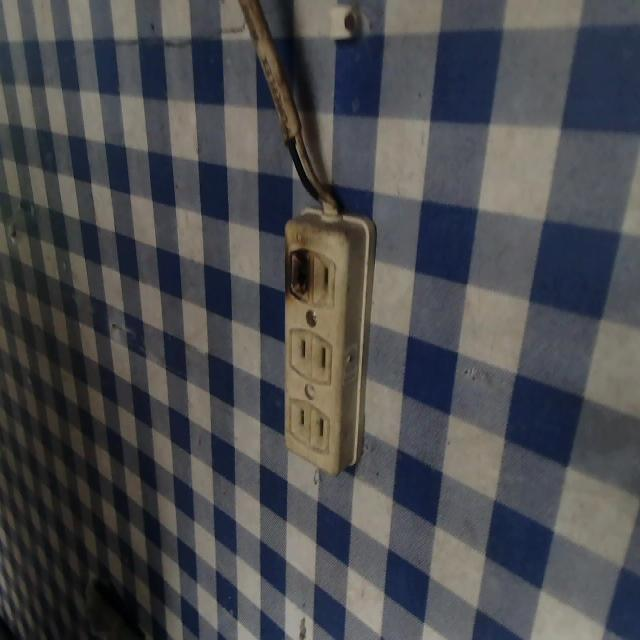-: (280, 242, 315, 314)
